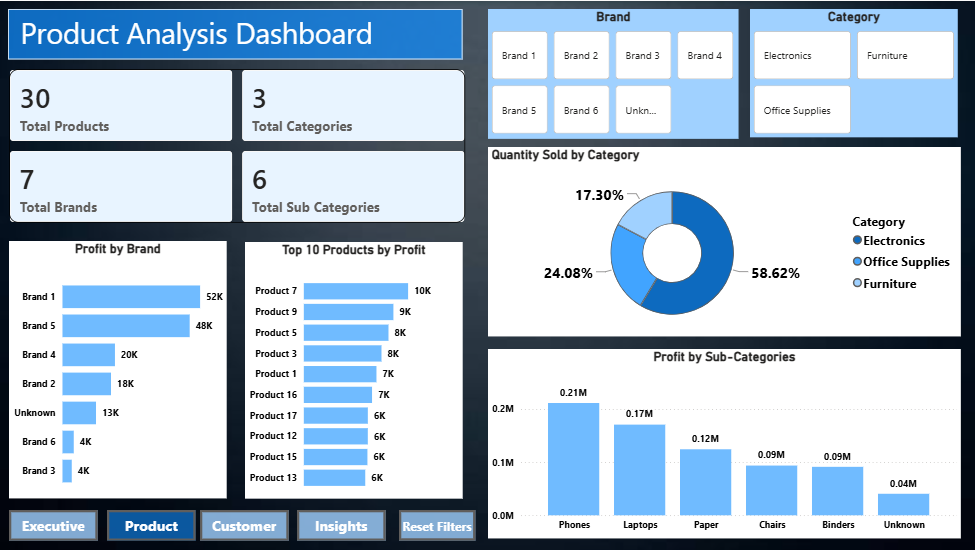

This screenshot's page, from the dashboard's own definition file:
{"tool":"powerbi","page":{"name":"Product_analysis","canvas":[1280,720],"ordinal":1},"visuals":[{"type":"cardVisual","fields":{"Data":["Products(1).Total Products","Products(1).Total Categories","Products(1).Total Brands","Products(1).Total Sub Categories"]},"box":[0,77.8,622.1,226.1],"z":0},{"type":"clusteredColumnChart","title":"Profit by Sub-Categories","fields":{"Category":["Products(1).Sub_Category"],"Y":["Orders(1).Total_Sale"]},"box":[639.4,455,619.2,247.7],"z":1000},{"type":"advancedSlicerVisual","fields":{"Values":["Products(1).Category"]},"box":[982.1,10.1,272.2,168.5],"z":2000},{"type":"advancedSlicerVisual","fields":{"Values":["Products(1).Brand"]},"box":[639.4,10.1,328.3,169.9],"z":3000},{"type":"clusteredBarChart","title":"Top 10 Products by Profit","fields":{"Category":["Products(1).Product_Name"],"Y":["Orders(1).Total_Profit"]},"box":[321.1,315.4,285.1,335.5],"z":4000},{"type":"clusteredBarChart","title":"Profit by Brand","fields":{"Y":["Orders(1).Total_Profit"],"Category":["Products(1).Brand"]},"box":[11.5,313.9,285.1,337],"z":5000},{"type":"textbox","box":[11,11,594.6,66.1],"z":6000},{"type":"donutChart","title":"Quantity Sold by Category","fields":{"Category":["Products(1).Category"],"Y":["Orders(1).Total_Quantity"]},"box":[639.4,191.5,619.2,247.7],"z":7000},{"type":"actionButton","box":[11.5,666.7,116,40.3],"z":8000},{"type":"actionButton","box":[139.7,666.7,116,40.3],"z":9000},{"type":"actionButton","box":[262.1,666.7,116,40.3],"z":10000},{"type":"actionButton","box":[388.8,666.7,116,40.3],"z":11000},{"type":"actionButton","box":[522.7,666.7,100,40],"z":12000}]}

Visuals, with their boxes in screenshot pixels (x1, y1, x2, y2), scaled from the page's 1280x720 canvas onto the 975x550 screenshot:
cardVisual - Products(1).Total Products x Products(1).Total Categories: select_region(0, 59, 474, 232)
"Profit by Sub-Categories" clusteredColumnChart: select_region(487, 348, 959, 537)
advancedSlicerVisual - Products(1).Category: select_region(748, 8, 955, 136)
advancedSlicerVisual - Products(1).Brand: select_region(487, 8, 737, 138)
"Top 10 Products by Profit" clusteredBarChart: select_region(245, 241, 462, 497)
"Profit by Brand" clusteredBarChart: select_region(9, 240, 226, 497)
textbox: select_region(8, 8, 461, 59)
"Quantity Sold by Category" donutChart: select_region(487, 146, 959, 335)
actionButton: select_region(9, 509, 97, 540)
actionButton: select_region(106, 509, 195, 540)
actionButton: select_region(200, 509, 288, 540)
actionButton: select_region(296, 509, 385, 540)
actionButton: select_region(398, 509, 474, 540)
